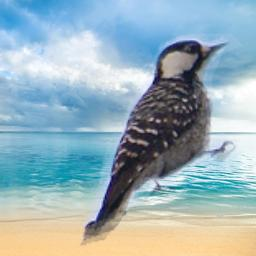Woodpecker: (70, 27, 245, 253)
